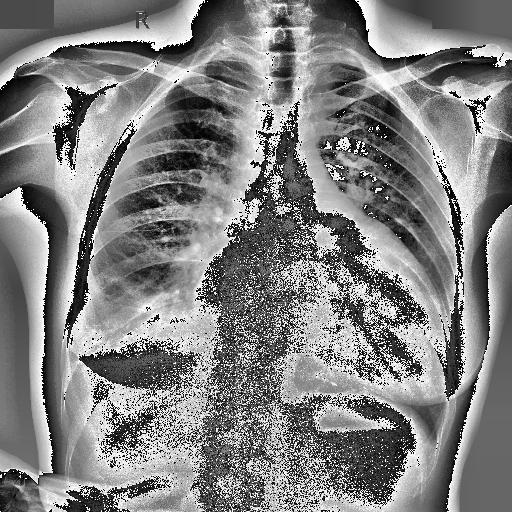3- Cardiomegaly: (191, 246, 454, 403), (192, 244, 445, 400), (192, 250, 452, 394)
7- Lung Opacity: (66, 258, 210, 361), (74, 260, 194, 356), (70, 285, 186, 361)
